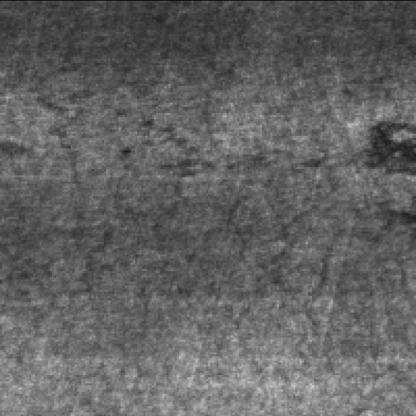crazing: (139, 141, 339, 306), (25, 54, 121, 308)
